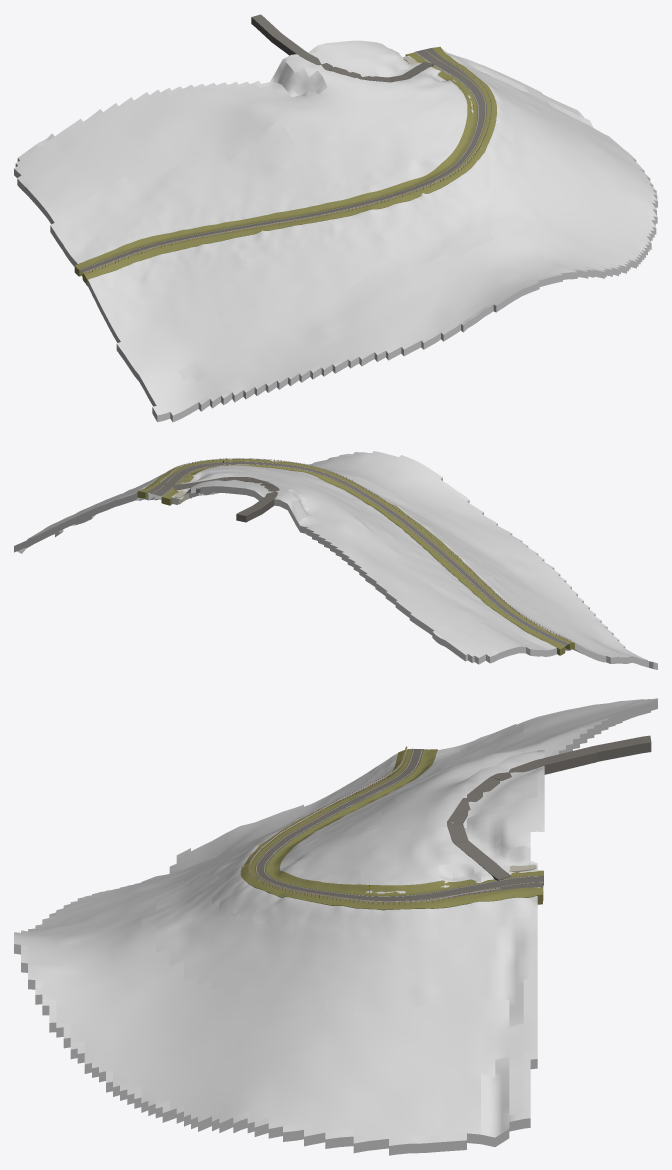
File: conz_12.glb
3 views of the same model, one above another, from view 1: azimuth 30°, elevation 25°; view 2: azimuth 150°, elevation 25°; view 3: azimuth 270°, elevation 25° (orthographic). The views are drawn at different scales.
Visible parts, largest first — view 1: terrain12, verge12L, verge12R, road12, lot_track12, beam12_11085; view 2: terrain12, road12, verge12R, verge12L, lot_track12, beam12_11085, posts12_11085; view 3: terrain12, verge12L, lot_track12, road12, verge12R, posts12_11085, beam12_11085.
Part boxes in pixels (bbox=[...]): terrain12: bbox=[14, 40, 657, 422]; verge12L: bbox=[82, 46, 496, 286]; verge12R: bbox=[74, 52, 477, 276]; road12: bbox=[79, 48, 486, 272]; lot_track12: bbox=[251, 14, 433, 82]; beam12_11085: bbox=[84, 59, 490, 272]; terrain12: bbox=[14, 451, 657, 669]; road12: bbox=[146, 461, 569, 646]; verge12R: bbox=[162, 464, 565, 655]; verge12L: bbox=[137, 459, 574, 649]; lot_track12: bbox=[173, 477, 279, 522]; beam12_11085: bbox=[160, 458, 571, 640]; posts12_11085: bbox=[159, 458, 570, 641]; terrain12: bbox=[14, 698, 657, 1155]; verge12L: bbox=[240, 749, 543, 910]; lot_track12: bbox=[447, 735, 651, 880]; road12: bbox=[254, 748, 543, 901]; verge12R: bbox=[265, 749, 543, 896]; posts12_11085: bbox=[248, 746, 500, 904]; beam12_11085: bbox=[249, 746, 499, 902].
Size of the model in its own units: 256 by 97.36 by 182.
